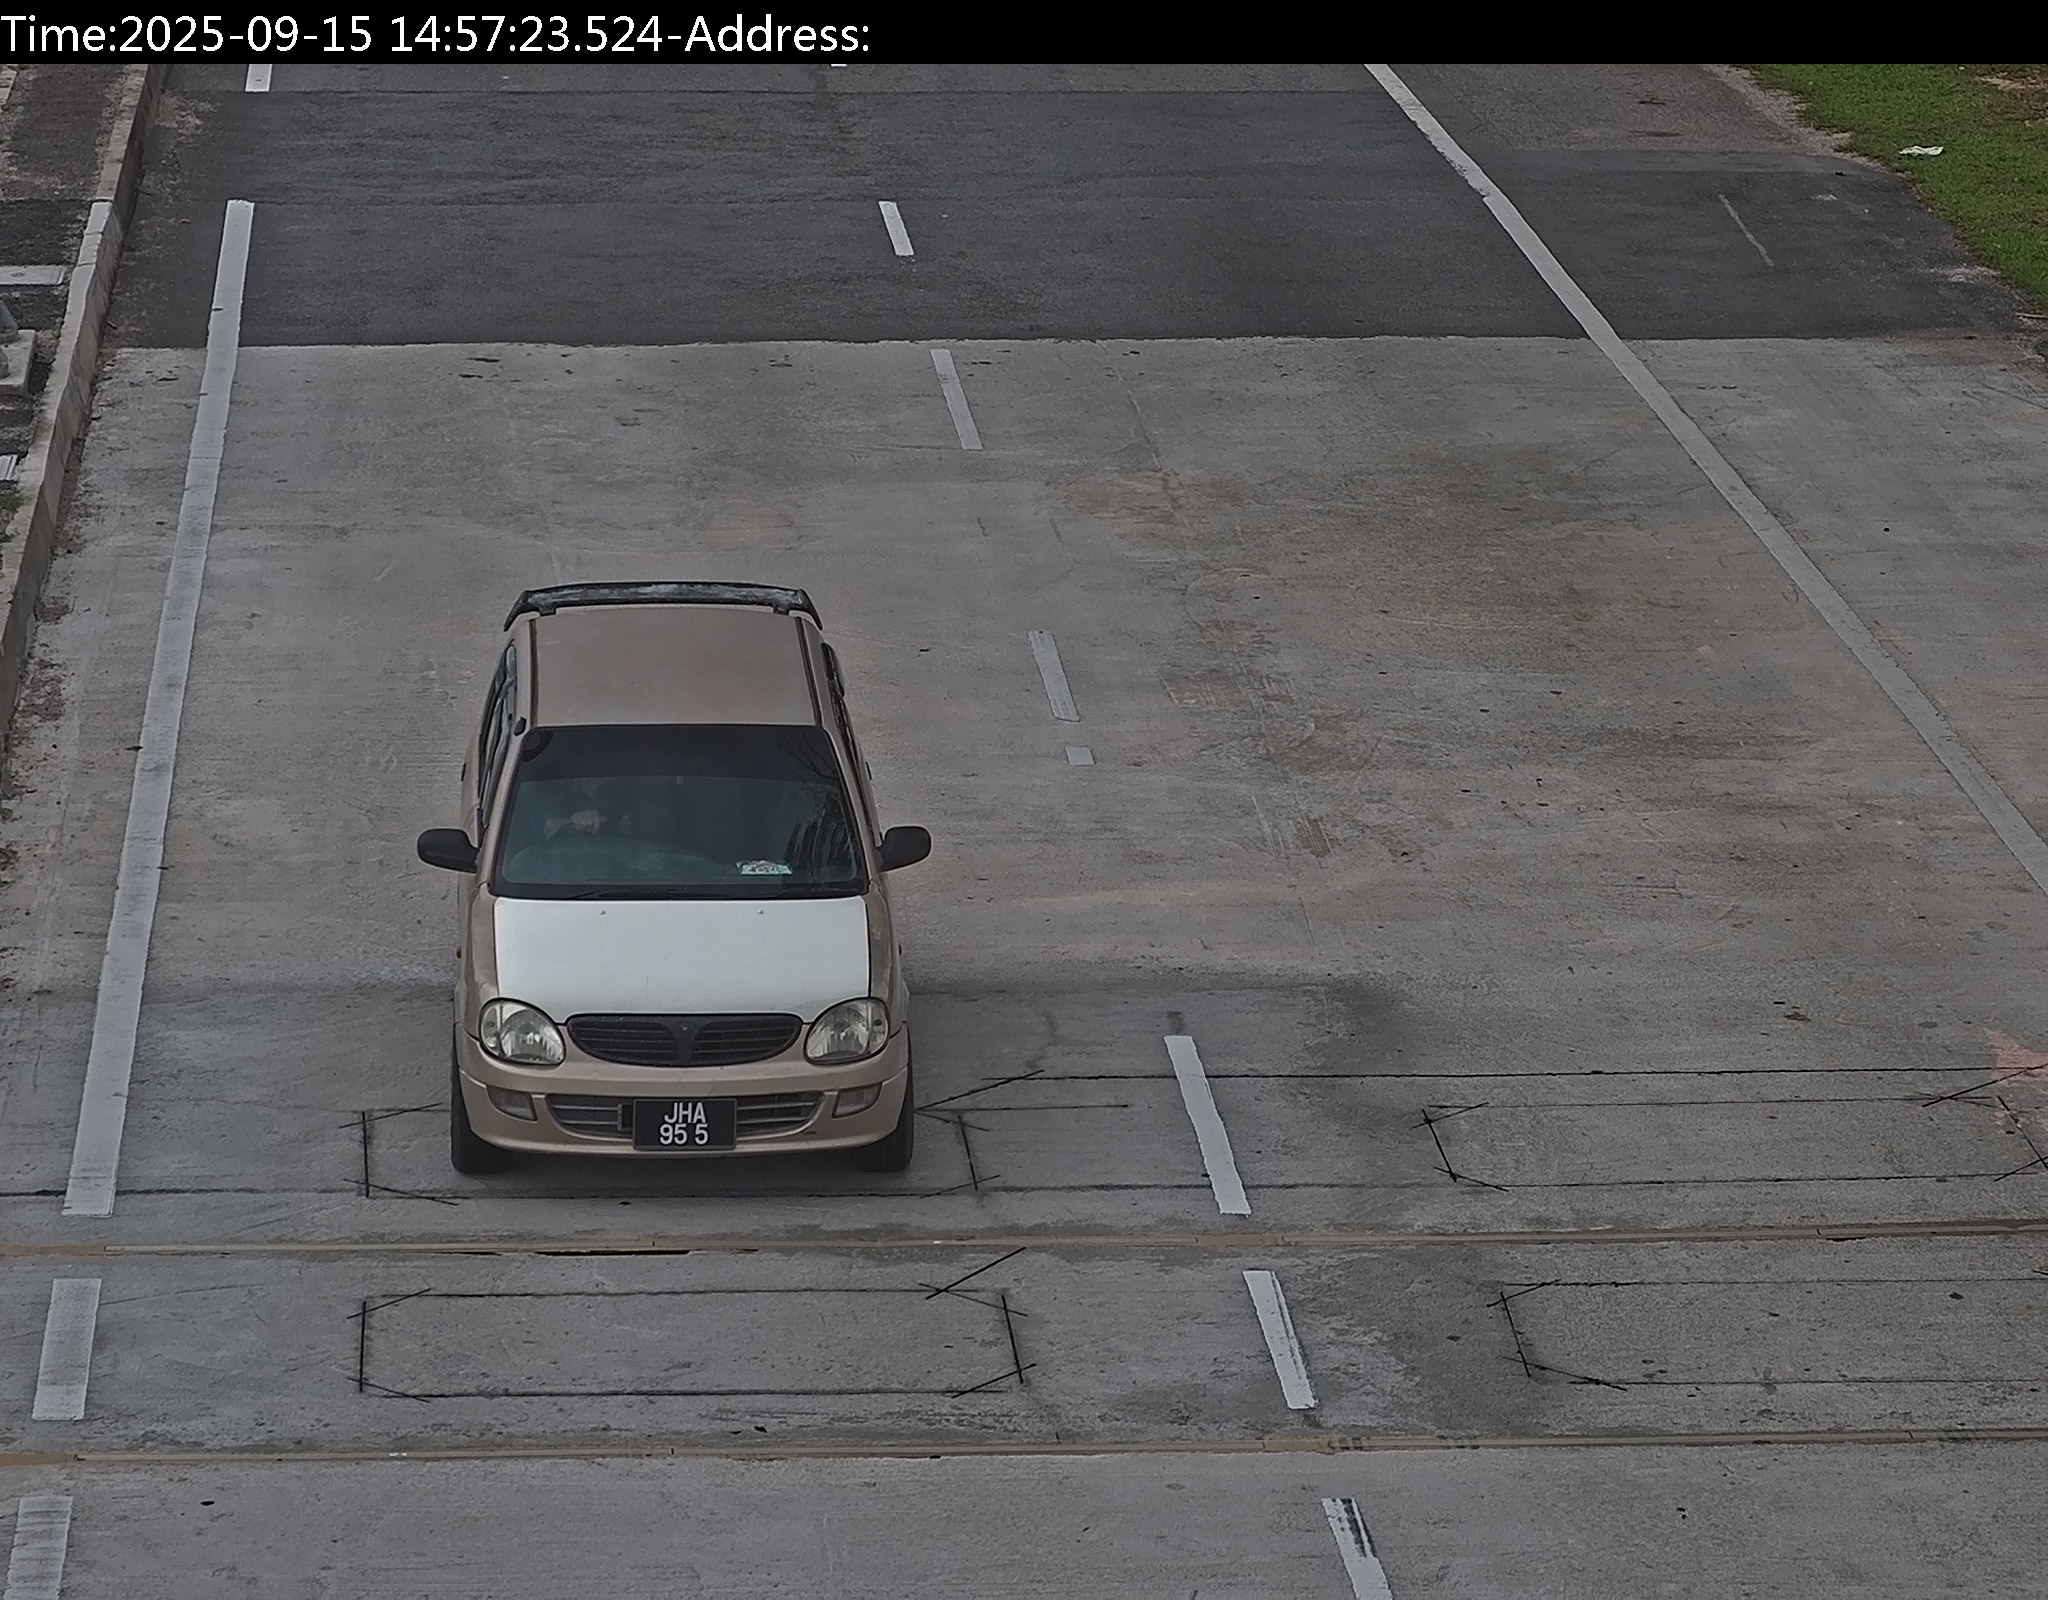class1_lightVehicle: (445, 588, 921, 1169)
license_plate: (638, 1102, 724, 1146)
